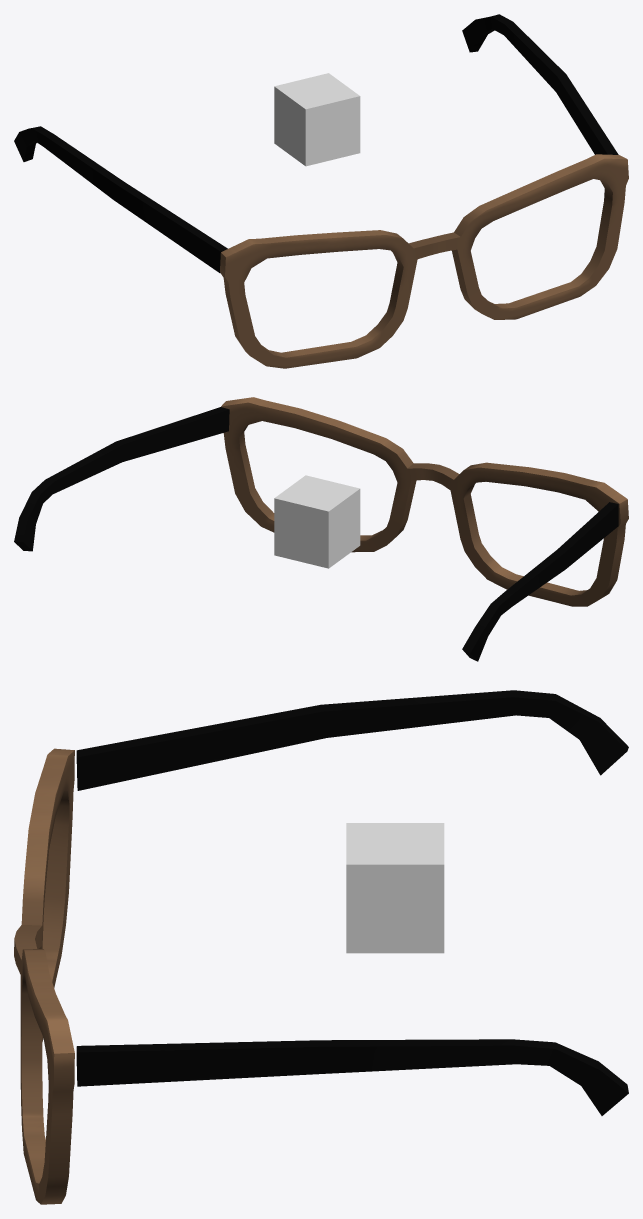
Rendered from girl_glasses8.FBX.
3 renders of one model, top to bottom at view 1: azimuth 30°, elevation 25°; view 2: azimuth 150°, elevation 25°; view 3: azimuth 270°, elevation 25°, orthographic. The views are drawn at different scales.
Visible parts, largest first — view 1: girl_glasses022, faceSpawn; view 2: girl_glasses022, faceSpawn; view 3: girl_glasses022, faceSpawn.
Boxes of the visible parts, x1,y1,x2,y2 form: girl_glasses022: (14, 14, 628, 368); faceSpawn: (274, 73, 360, 166); girl_glasses022: (14, 397, 628, 661); faceSpawn: (274, 475, 360, 568); girl_glasses022: (14, 690, 628, 1204); faceSpawn: (346, 823, 444, 953).
Bounding box in the file's own units: 42.97 × 14.06 × 31.38.
